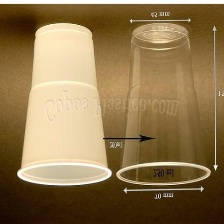glass: (114, 13, 215, 191), (13, 18, 113, 190)
